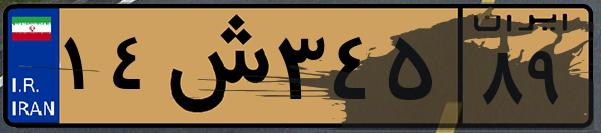1: (57, 26, 110, 100)
3: (270, 28, 330, 110)
4: (330, 28, 385, 110), (110, 28, 158, 98)
5: (385, 28, 445, 110)
8: (475, 38, 525, 113)
9: (525, 38, 570, 115)
ش: (158, 12, 270, 120)
